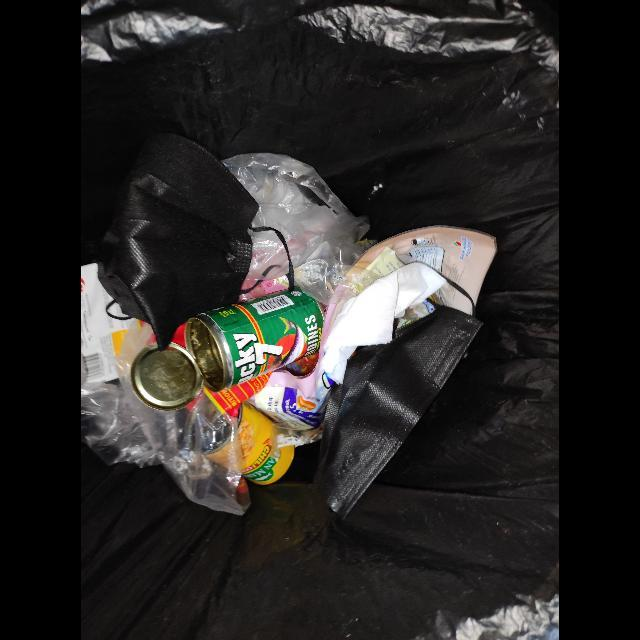metal: (130, 292, 323, 411)
paper: (322, 262, 448, 385)
plastic: (223, 153, 370, 309)
wrapper: (248, 226, 498, 429)
